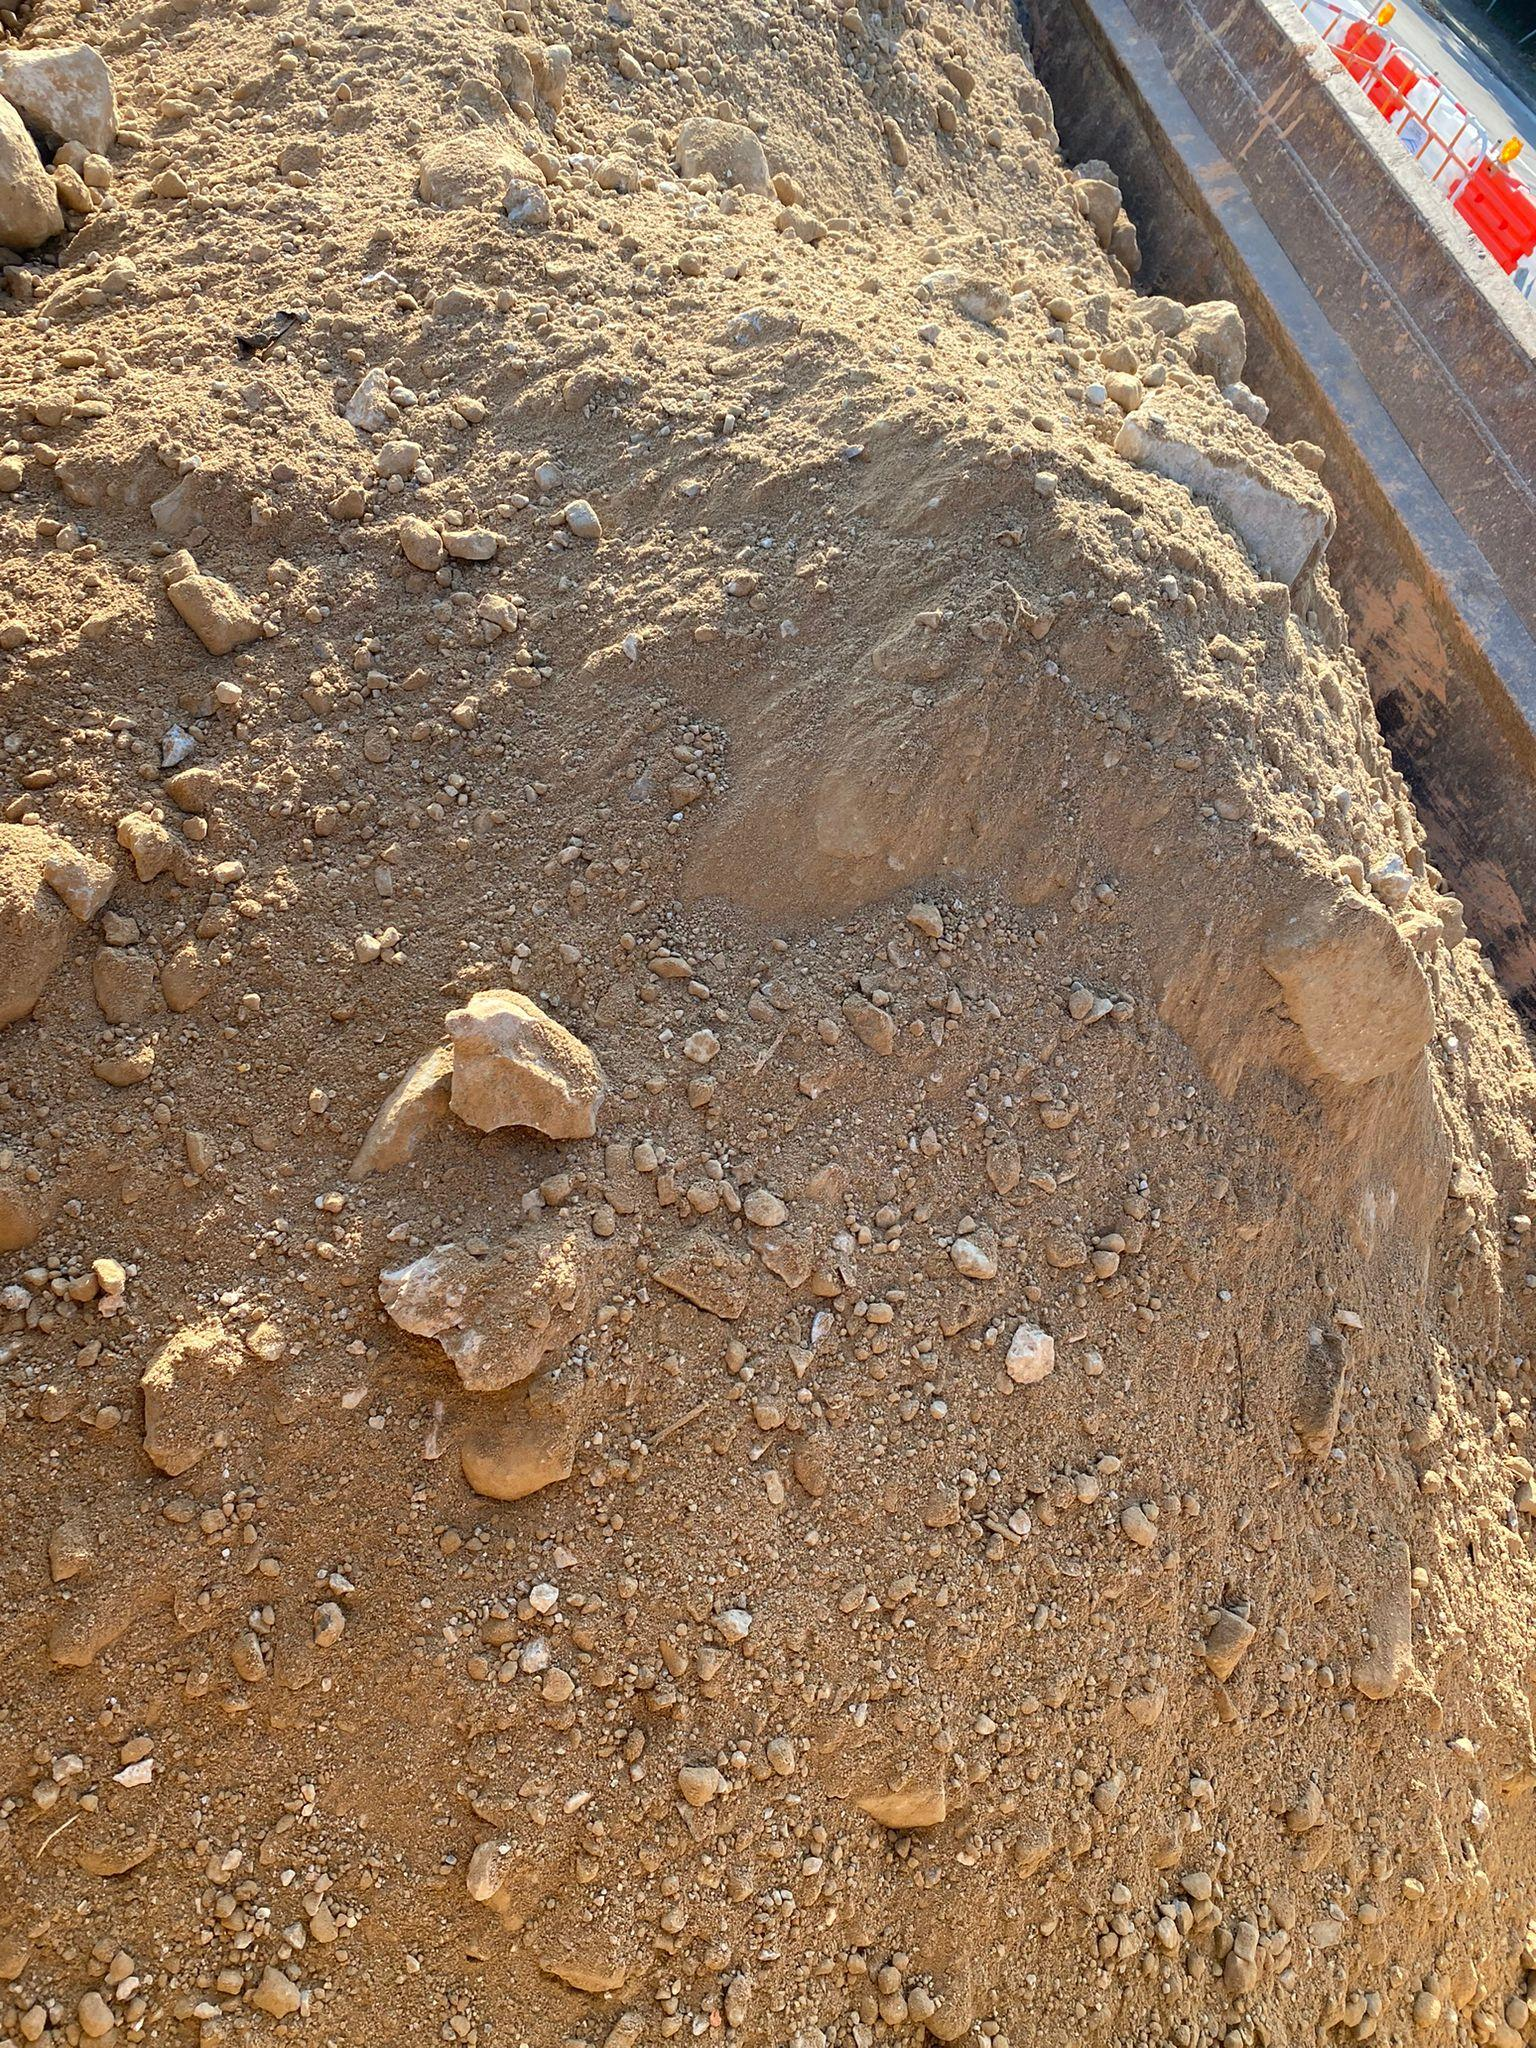dirt: (2, 1, 1532, 2044)
stone: (376, 1216, 603, 1391), (443, 986, 606, 1140), (0, 40, 117, 154), (163, 569, 265, 654)
